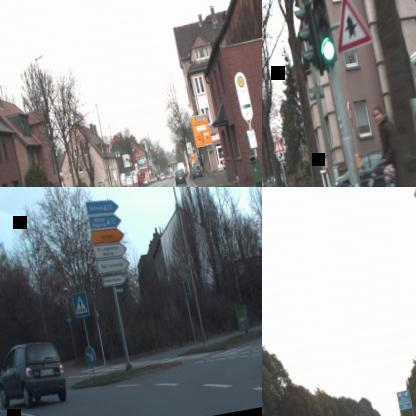DANGER: (270, 134, 284, 153)
keep right: (82, 344, 96, 367)
priority at next intersection: (327, 0, 375, 53)
